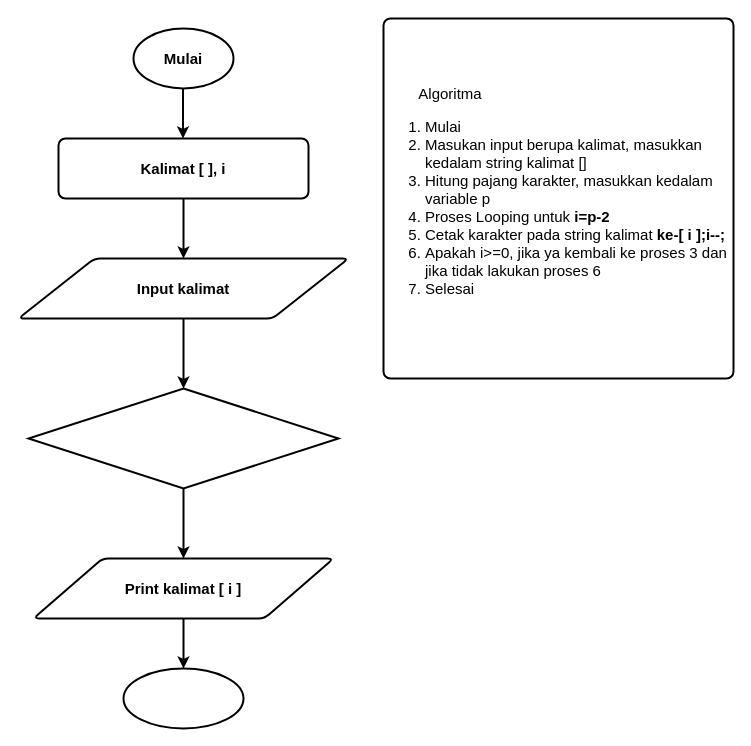
This 751x746 diagram has some shape labels left out. The centre of each missing label's shape, as x and y in pixels:
"i=length(kalimat) ; i>1; i--" belongs at (x=183, y=438).
"Selesai" belongs at (x=183, y=698).
